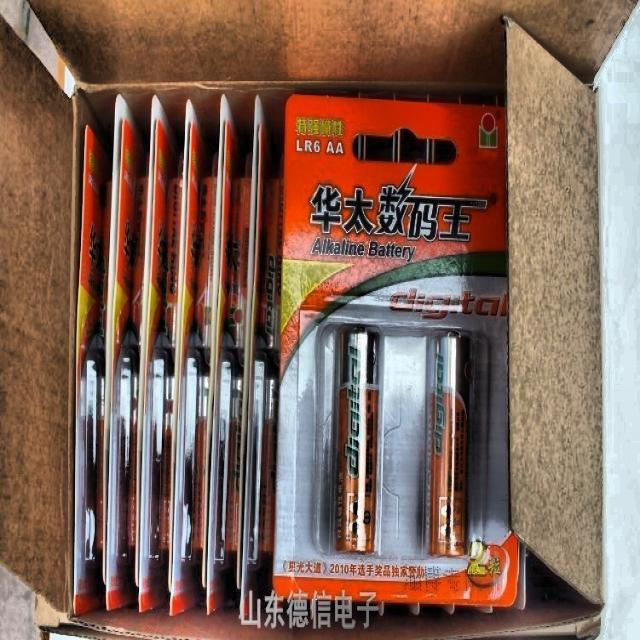battery: (429, 332, 471, 557), (336, 329, 378, 553)
